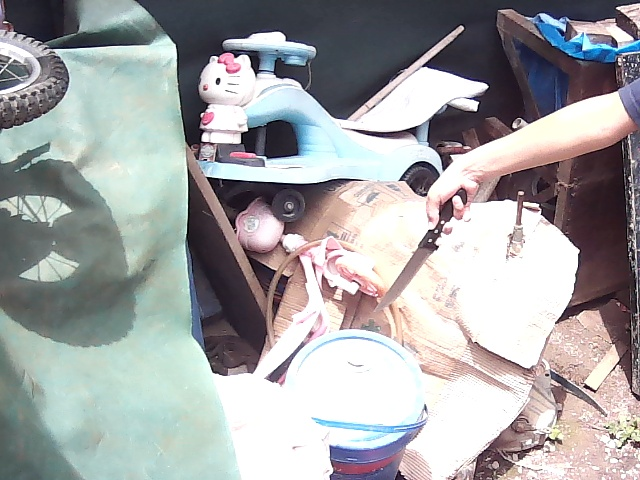cuchillo: (372, 204, 450, 316)
